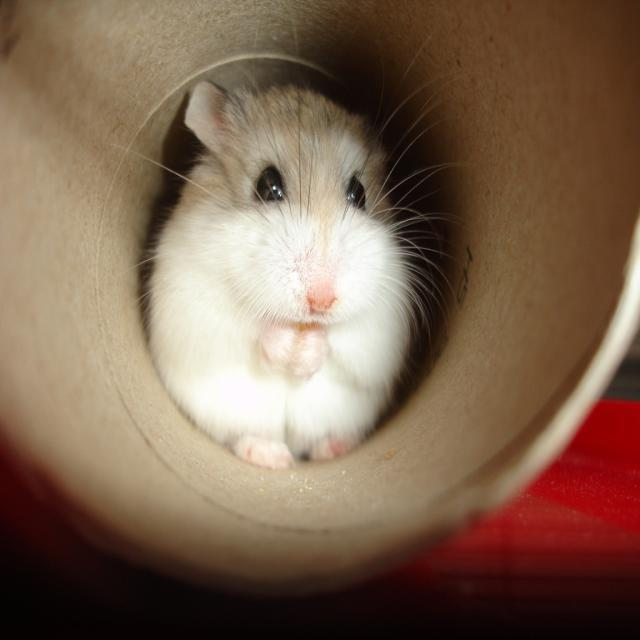rat: (143, 78, 420, 468)
